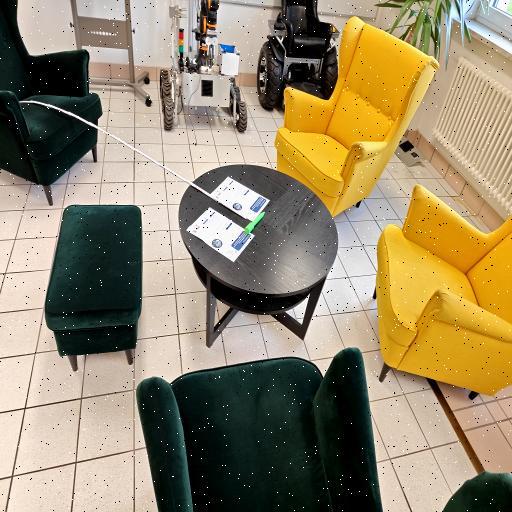Probe-Detection: (244, 212, 265, 234)
